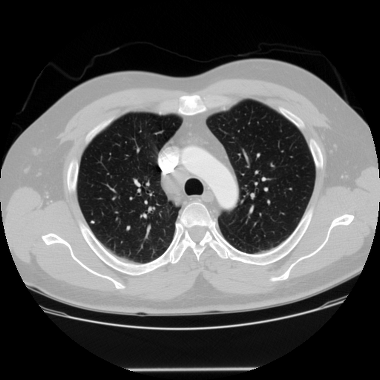nodule: (90, 220, 94, 224)
